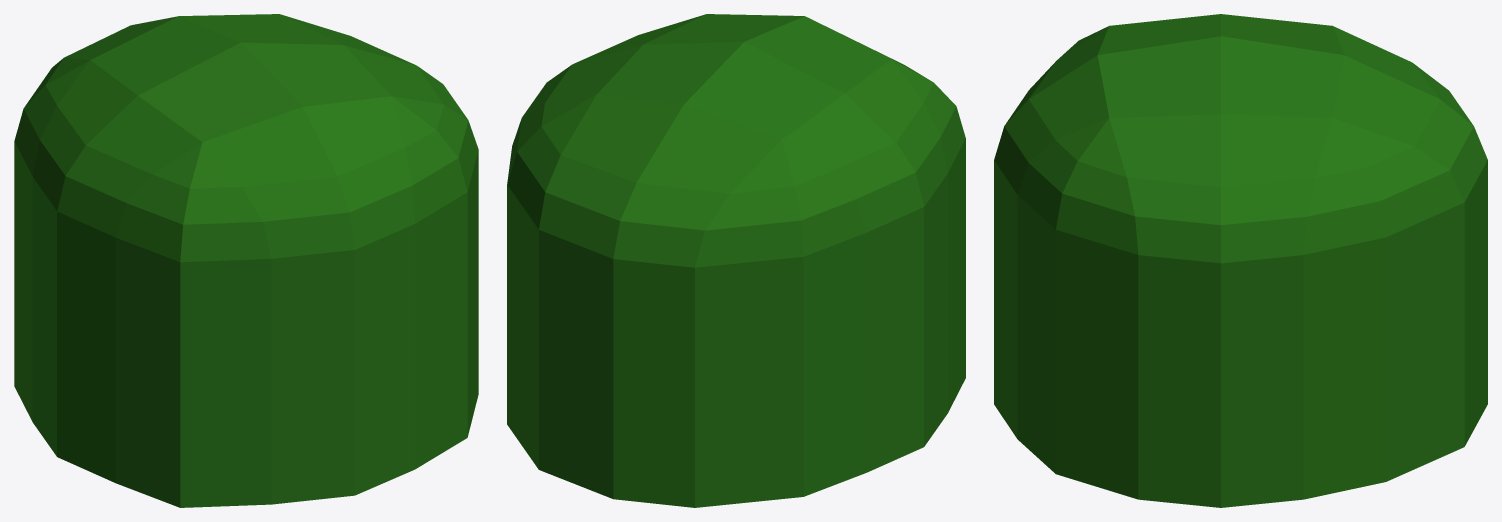
The model's file is Buisson 1.fbx.
3 renders of one model, left to right at view 1: azimuth 30°, elevation 25°; view 2: azimuth 150°, elevation 25°; view 3: azimuth 270°, elevation 25°, orthographic. The views are drawn at different scales.
Visible parts, largest first — view 1: Cube; view 2: Cube; view 3: Cube.
Part boxes in pixels (<box>): Cube: <box>14,14,478,507</box>; Cube: <box>507,14,965,507</box>; Cube: <box>994,14,1487,507</box>.
Bounding box in the file's own units: 2.99 × 2.76 × 2.46.
